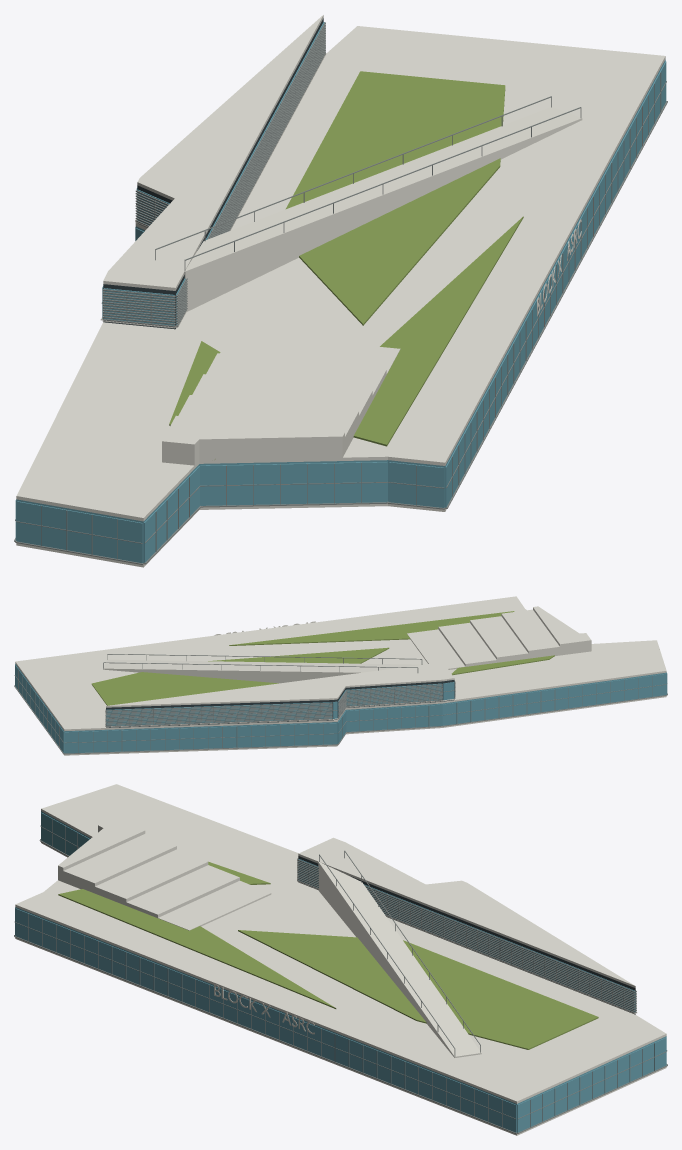
The model's file is blockx.glb.
The picture shows the model from 3 angles, top to bottom: view 1: azimuth 30°, elevation 25°; view 2: azimuth 150°, elevation 25°; view 3: azimuth 270°, elevation 25°; orthographic projection. The views are drawn at different scales.
Parts seen in each view (by area): view 1: BLKX_main_deck, DETAIL_baked_REF_BLKX_glass, BLKX_verified_vegetated_surface_0, BLKX_accessible_ramp, BLKX_wing_cap, DETAIL_baked_REF_BLKX_metal, BLKX_verified_vegetated_surface_1, BLKX_amphitheatre_deck_4, BLKX_amphitheatre_deck_3, BLKX_amphitheatre_deck_2, BLKX_amphitheatre_deck_1, BLKX_amphitheatre_deck_0 (+4 smaller); view 2: BLKX_main_deck, DETAIL_baked_REF_BLKX_glass, DETAIL_baked_REF_BLKX_metal, BLKX_wing_cap, BLKX_verified_vegetated_surface_0, BLKX_accessible_ramp, BLKX_verified_vegetated_surface_1, BLKX_amphitheatre_deck_3, BLKX_amphitheatre_deck_2, BLKX_amphitheatre_deck_1, BLKX_service_wing, BLKX_amphitheatre_deck_0 (+7 smaller); view 3: BLKX_main_deck, DETAIL_baked_REF_BLKX_glass, BLKX_verified_vegetated_surface_0, DETAIL_baked_REF_BLKX_metal, BLKX_wing_cap, BLKX_accessible_ramp, BLKX_verified_vegetated_surface_1, BLKX_amphitheatre_deck_3, BLKX_amphitheatre_deck_2, BLKX_amphitheatre_deck_1, BLKX_amphitheatre_deck_0, BLKX_amphitheatre_deck_4 (+4 smaller).
Boxes of the visible parts, x1,y1,x2,y2 form: BLKX_main_deck: (16,26,665,521); DETAIL_baked_REF_BLKX_glass: (15,22,666,563); BLKX_verified_vegetated_surface_0: (285,71,505,325); BLKX_accessible_ramp: (184,107,582,311); BLKX_wing_cap: (103,15,323,290); DETAIL_baked_REF_BLKX_metal: (14,22,667,564); BLKX_verified_vegetated_surface_1: (353,216,523,446); BLKX_amphitheatre_deck_4: (162,415,344,465); BLKX_amphitheatre_deck_3: (178,395,358,452); BLKX_amphitheatre_deck_2: (192,374,372,425); BLKX_amphitheatre_deck_1: (206,353,386,399); BLKX_amphitheatre_deck_0: (220,332,400,374); BLKX_main_deck: (15,596,666,731); DETAIL_baked_REF_BLKX_glass: (15,664,667,753); DETAIL_baked_REF_BLKX_metal: (14,670,667,754); BLKX_wing_cap: (106,662,454,707); BLKX_verified_vegetated_surface_0: (91,647,389,705); BLKX_accessible_ramp: (103,659,421,683); BLKX_verified_vegetated_surface_1: (229,611,514,645); BLKX_amphitheatre_deck_3: (501,609,559,658); BLKX_amphitheatre_deck_2: (470,616,528,662); BLKX_amphitheatre_deck_1: (438,622,496,666); BLKX_service_wing: (106,680,454,727); BLKX_amphitheatre_deck_0: (407,629,465,669); BLKX_main_deck: (15,784,666,1103); DETAIL_baked_REF_BLKX_glass: (15,812,666,1132); BLKX_verified_vegetated_surface_0: (238,930,598,1049); DETAIL_baked_REF_BLKX_metal: (14,819,667,1133); BLKX_wing_cap: (298,837,635,987); BLKX_accessible_ramp: (318,861,481,1057); BLKX_verified_vegetated_surface_1: (58,889,336,1008); BLKX_amphitheatre_deck_3: (63,833,176,893); BLKX_amphitheatre_deck_2: (95,849,208,905); BLKX_amphitheatre_deck_1: (126,865,239,918); BLKX_amphitheatre_deck_0: (158,881,271,930); BLKX_amphitheatre_deck_4: (58,818,145,881).
Bounding box in the file's own units: 87.59 × 9.06 × 76.
